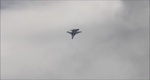maybay_muctieu: (66, 26, 81, 39)
